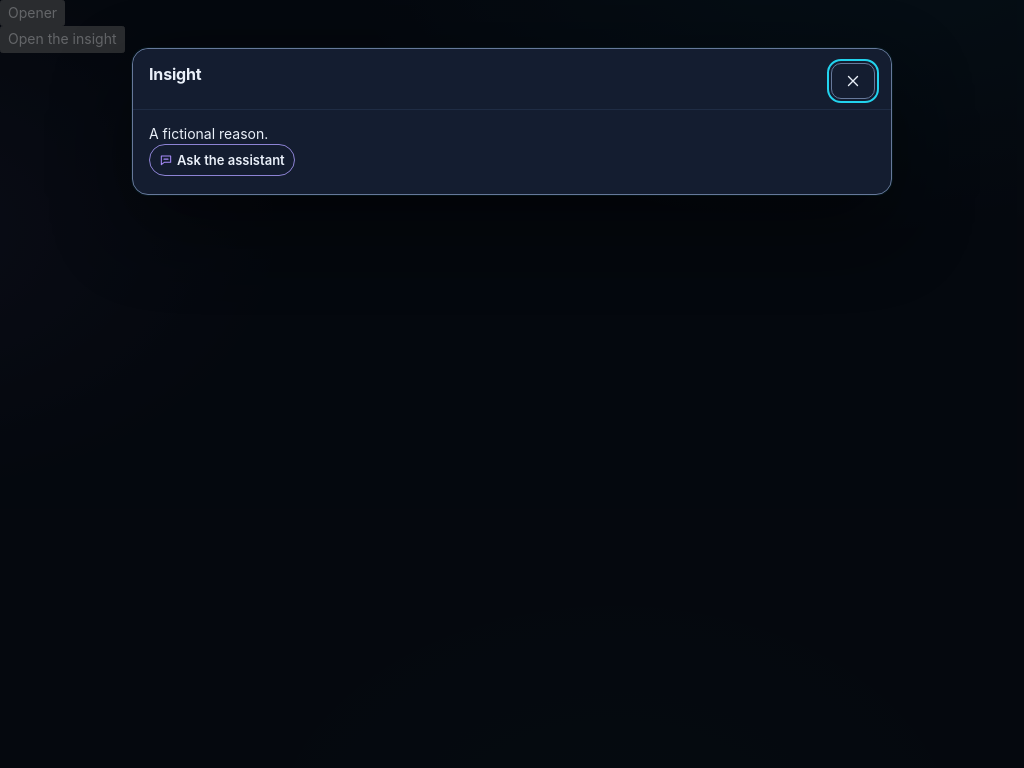
Test: asking from inside a dialog closes it and keeps its opener as the return target
The width and height of the screenshot is (1024, 768).
Expected: the dialog is shown, [132,48,892,195]
Click the button "Ask the assistant": (222, 160) [149,144,295,176]
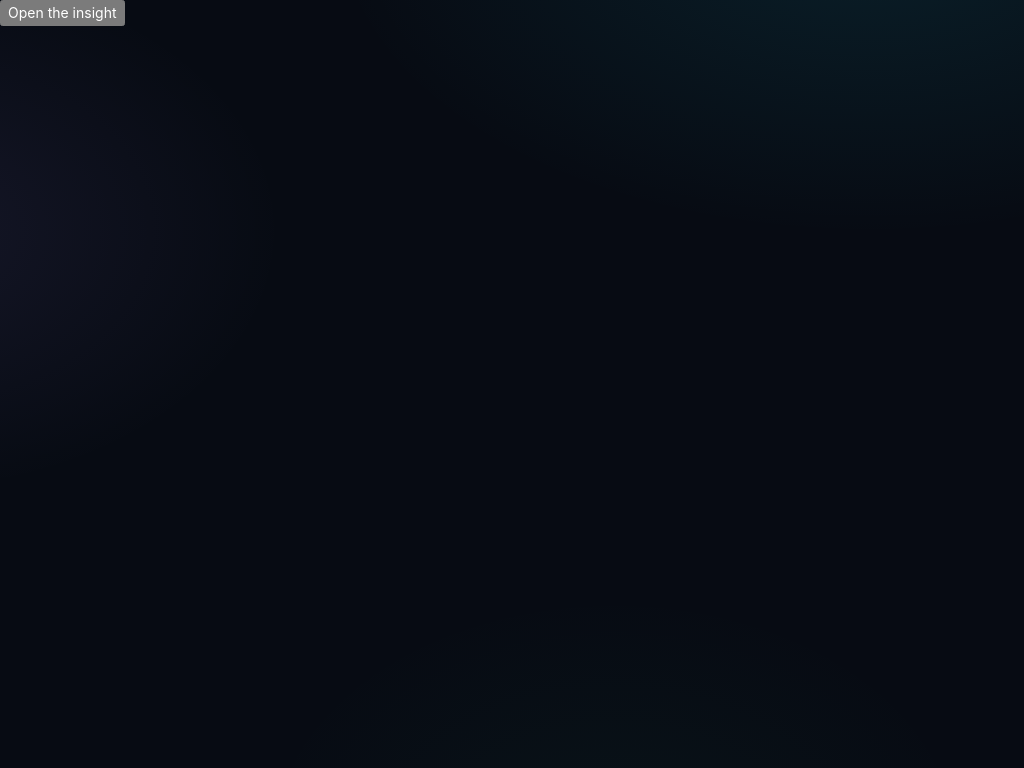
Expected: the dialog is gone
